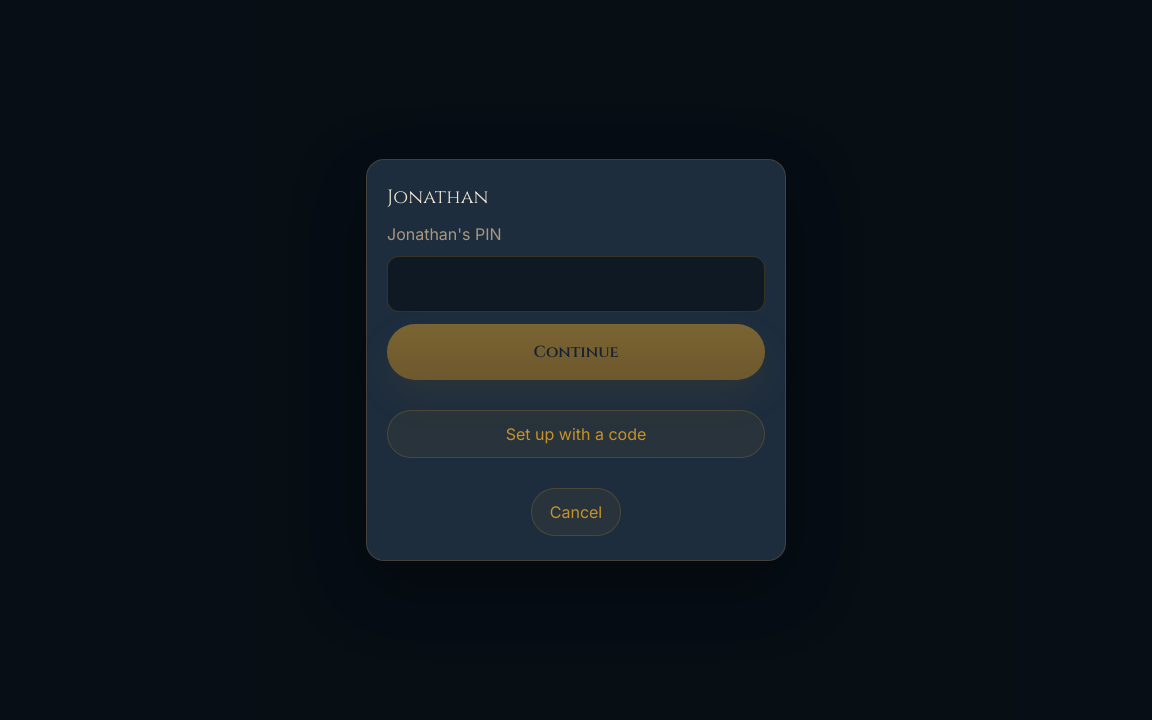
Test: signing in as the person who is reading › a wrong PIN says so, and opens nothing
In the password field labelled "Jonathan's PIN": (576, 284) [387,256,765,312], type "1111"
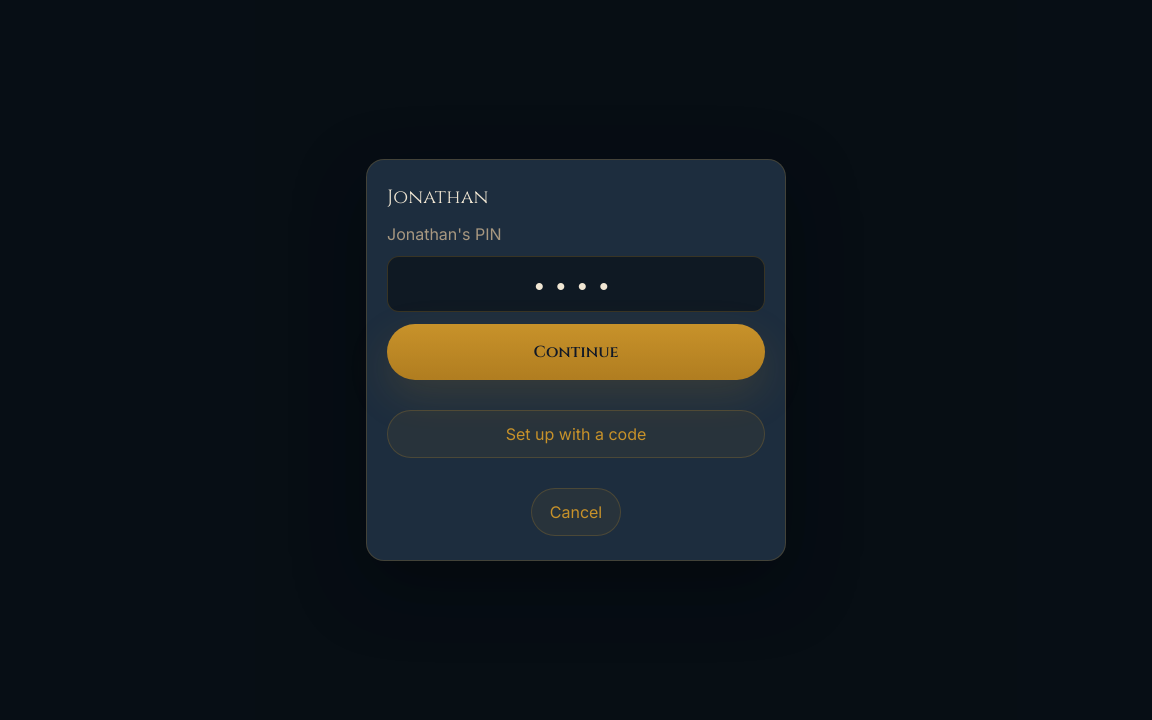
Click the button "Continue": (576, 352) [387,324,765,380]
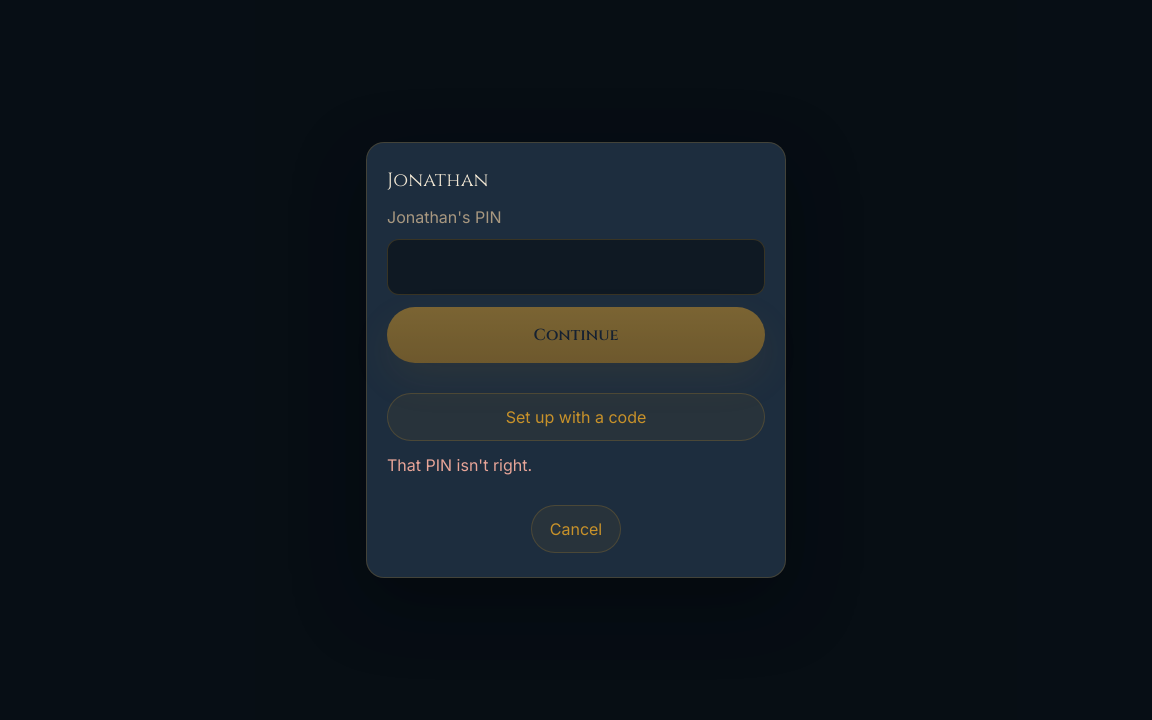
Check: the text "That PIN isn't right." is shown, box [387,455,532,475]
